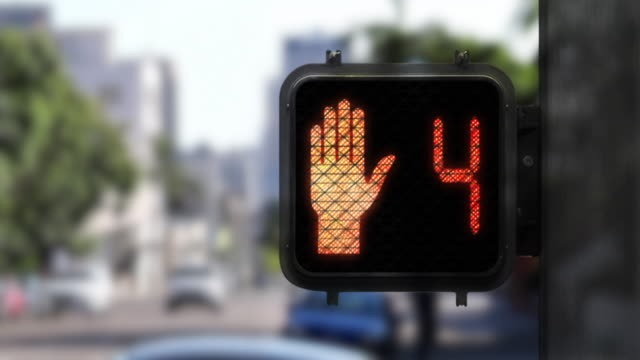pedestrian_stop: (282, 66, 415, 281)
